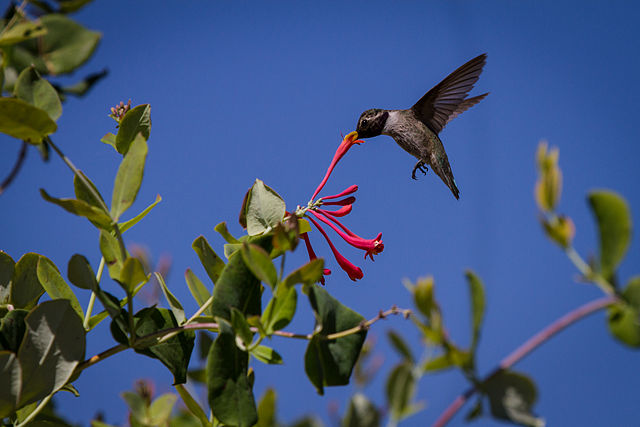calypte costae: (348, 52, 493, 201)
